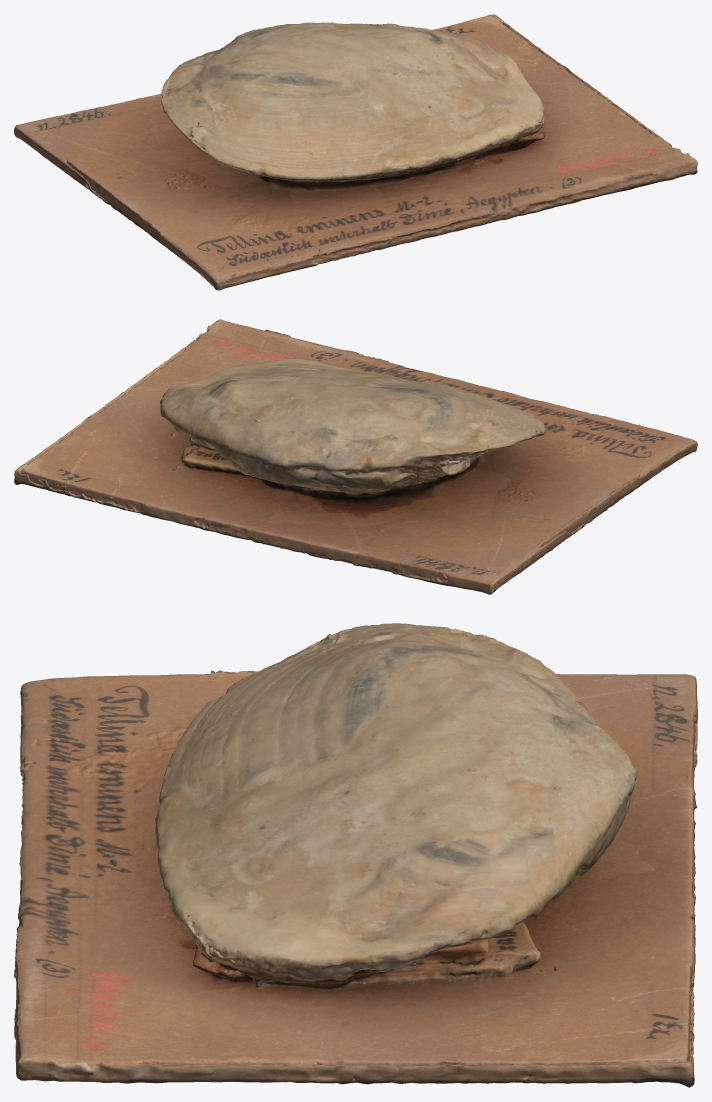
Rendered from EWS0016490.glb.
3 views of the same model, one above another, from view 1: azimuth 30°, elevation 25°; view 2: azimuth 150°, elevation 25°; view 3: azimuth 270°, elevation 25° (orthographic). The views are drawn at different scales.
Parts seen in each view (by area): view 1: input; view 2: input; view 3: input.
Boxes of the visible parts, x1,y1,x2,y2 form: input: (14, 14, 697, 290); input: (14, 319, 697, 594); input: (14, 623, 697, 1087).
Size of the model in its own units: 0.1024 by 0.0205 by 0.0763.
Materials: 1 (1 with a texture image).
